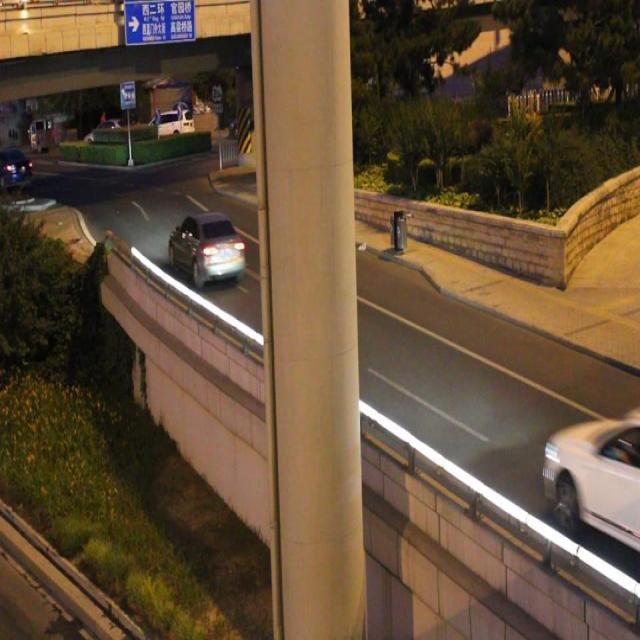car: (544, 415, 640, 550), (170, 210, 246, 286)
